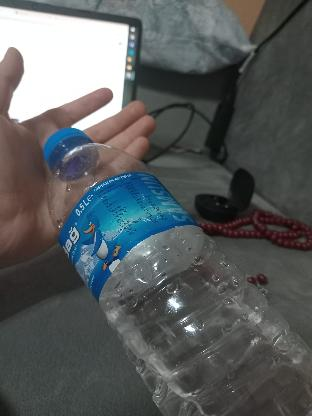Plastic Bottle: (36, 127, 312, 416)
